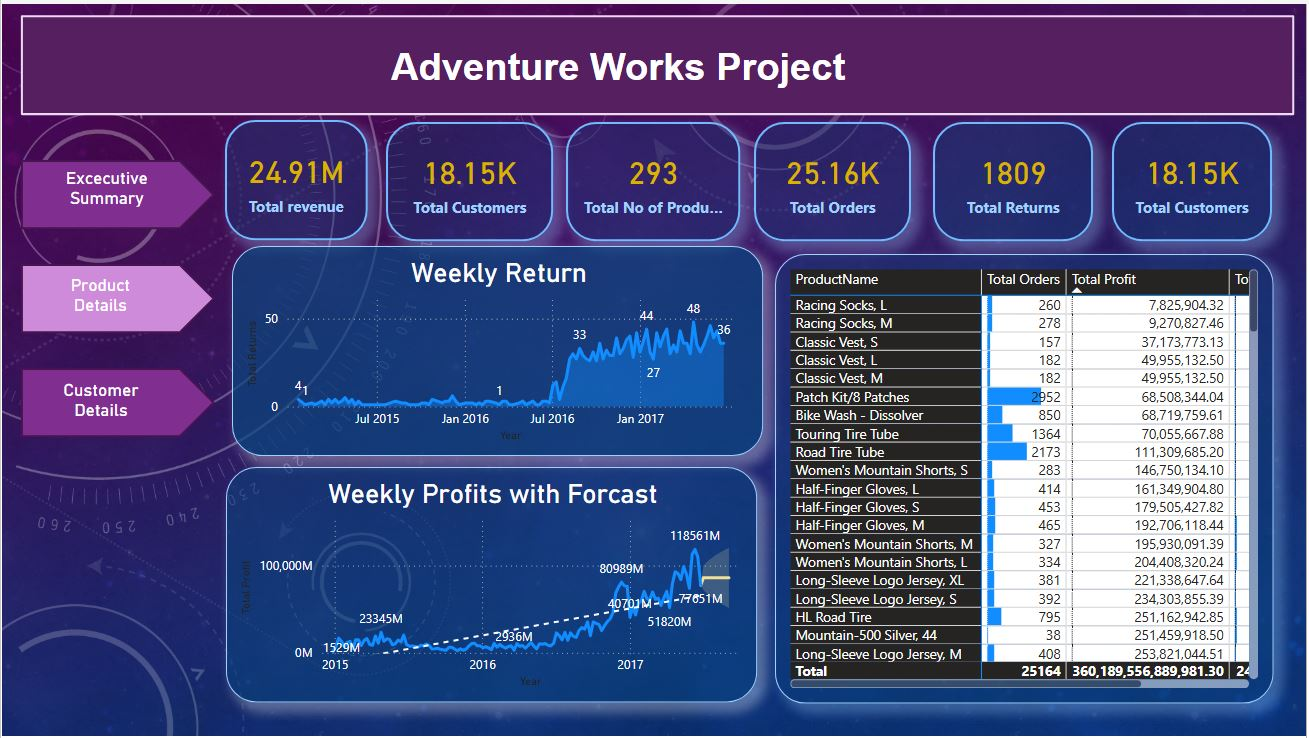

The dashboard page shown, as its layout file describes it:
{"tool":"powerbi","page":{"name":"Product Details","canvas":[1280,720],"ordinal":1},"visuals":[{"type":"actionButton","title":"Excecutive Summary","box":[28.5,160.8,150.8,44.6],"z":0},{"type":"actionButton","title":"Product Details","box":[40,265.4,114.6,47.7],"z":1000},{"type":"actionButton","title":"Customer Details","box":[47.7,368.5,100,40],"z":2000},{"type":"textbox","box":[377.1,35.7,741.4,111.4],"z":3000},{"type":"card","title":"Total Revenue","fields":{"Values":["AdventureWorks_Sales.Total revenue"]},"box":[219.9,113.7,139.5,118.3],"z":4000},{"type":"card","title":"Total Revenue","fields":{"Values":["AdventureWorks_Customers.Total Customers"]},"box":[377.1,115.7,164.3,117.1],"z":5000},{"type":"card","title":"Total Revenue","fields":{"Values":["AdventureWorks_Products.Total No of Products"]},"box":[554.3,115.7,171.4,117.1],"z":6000},{"type":"card","title":"Total Revenue","fields":{"Values":["AdventureWorks_Sales.Total Orders"]},"box":[738.6,115.7,154.3,117.1],"z":7000},{"type":"card","title":"Total Revenue","fields":{"Values":["AdventureWorks_Returns.Total Returns"]},"box":[914.3,115.7,157.1,117.1],"z":8000},{"type":"card","title":"Total Revenue","fields":{"Values":["AdventureWorks_Customers.Total Customers"]},"box":[1090,115.7,157.1,117.1],"z":9000},{"type":"areaChart","title":"Weekly Return ","fields":{"Y":["AdventureWorks_Returns.Total Returns"],"Category":["AdventureWorks_Calendar.Start of Week.Variation.Date Hierarchy.Year","AdventureWorks_Calendar.Start of Week.Variation.Date Hierarchy.Quarter","AdventureWorks_Calendar.Start of Week.Variation.Date Hierarchy.Month","AdventureWorks_Calendar.Start of Week.Variation.Date Hierarchy.Day"]},"box":[226.5,237.4,521.3,206.4],"z":10000},{"type":"lineChart","title":"Weekly Profits with Forcast","fields":{"Category":["AdventureWorks_Calendar.Start of Week.Variation.Date Hierarchy.Year","AdventureWorks_Calendar.Start of Week.Variation.Date Hierarchy.Quarter","AdventureWorks_Calendar.Start of Week.Variation.Date Hierarchy.Month","AdventureWorks_Calendar.Start of Week.Variation.Date Hierarchy.Day"],"Y":["AdventureWorks_Sales.Total Profit"]},"box":[220.3,454.6,521.3,231.2],"z":11000},{"type":"pivotTable","fields":{"Rows":["AdventureWorks_Product_Category.CategoryName","AdventureWorks_Product_Subcategories.SubcategoryName","AdventureWorks_Products.ProductName"],"Values":["AdventureWorks_Sales.Total Orders","AdventureWorks_Sales.Total Profit","AdventureWorks_Sales.Total revenue"]},"box":[758.7,245.1,488.7,440.6],"z":12000}]}

Visuals, with their boxes in screenshot pixels (x1, y1, x2, y2), scaled from the page's 1280x720 canvas onto the 1309x738 screenshot:
"Excecutive Summary" actionButton: rect(29, 165, 183, 211)
"Product Details" actionButton: rect(41, 272, 158, 321)
"Customer Details" actionButton: rect(49, 378, 151, 419)
textbox: rect(386, 37, 1144, 151)
"Total Revenue" card: rect(225, 117, 368, 238)
"Total Revenue" card: rect(386, 119, 554, 239)
"Total Revenue" card: rect(567, 119, 742, 239)
"Total Revenue" card: rect(755, 119, 913, 239)
"Total Revenue" card: rect(935, 119, 1096, 239)
"Total Revenue" card: rect(1115, 119, 1275, 239)
"Weekly Return " areaChart: rect(232, 243, 765, 455)
"Weekly Profits with Forcast" lineChart: rect(225, 466, 758, 703)
pivotTable - AdventureWorks_Product_Category.CategoryName x AdventureWorks_Product_Subcategories.SubcategoryName: rect(776, 251, 1276, 703)
